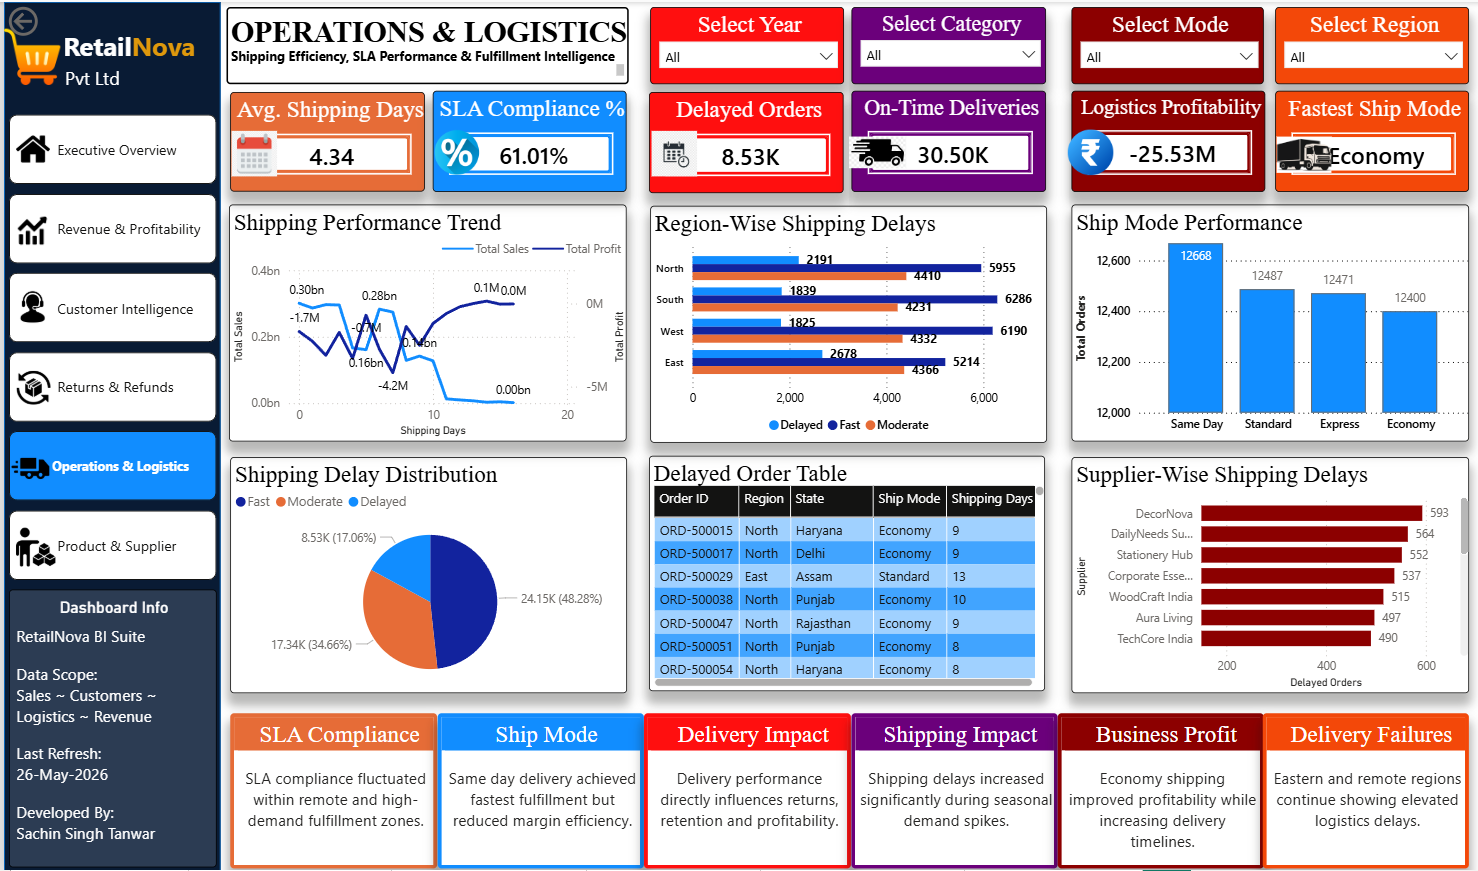

Layout of this report page (visuals, bound fields, positions):
{"tool":"powerbi","page":{"name":"Operations & Logistics","canvas":[1530,900],"ordinal":4},"visuals":[{"type":"cardVisual","title":"Avg. Shipping Days","fields":{"Data":["Avg(master_analytics_dataset.Shipping_Days)"]},"box":[234.7,93.4,202,103],"z":0},{"type":"group","id":"g1","title":"Group 2","box":[0,0,224.5,900.5],"z":1000},{"type":"textbox","title":"OPERATIONS & LOGISTICS","box":[230,5,417,79.6],"z":2000},{"type":"pageNavigator","box":[5.6,116.5,215.4,482.3],"z":2500,"group":"g2"},{"type":"textbox","title":"SLA Compliance","box":[234.9,736.4,214.8,160.5],"z":3000},{"type":"lineChart","title":"Shipping Performance Trend","fields":{"Y":["Sum(master_analytics_dataset.Sales)"],"Category":["master_analytics_dataset.Shipping_Days"],"Y2":["Sum(master_analytics_dataset.Profit)"]},"box":[233.3,210.2,412.2,245.9],"z":4000},{"type":"image","box":[11.9,134.5,36.6,35.4],"z":4500,"group":"g2"},{"type":"textbox","title":"Ship Mode","box":[449.7,736.4,213.4,160.5],"z":5000},{"type":"pieChart","title":"Shipping Delay Distribution","fields":{"Category":["master_analytics_dataset.Shipping Delay Categories"],"Y":["CountNonNull(master_analytics_dataset.Order_ID)"]},"box":[234.7,471.3,410.8,244.6],"z":6000},{"type":"image","box":[0,22,58.1,70],"z":6250,"group":"g2"},{"type":"shape","box":[0,0,224.5,900.5],"z":6500,"group":"g1"},{"type":"textbox","title":"Delivery Impact","box":[663.2,736.4,214.8,160.5],"z":7000},{"type":"clusteredColumnChart","title":"Ship Mode Performance","fields":{"Category":["master_analytics_dataset.Ship_Mode"],"Y":["CountNonNull(master_analytics_dataset.Order_ID)"]},"box":[1105.7,210.2,412.2,245.9],"z":8000},{"type":"textbox","title":"Retail","box":[58.1,22,166.4,60.9],"z":8500,"group":"g2"},{"type":"textbox","title":"Shipping Impact","box":[877.9,736.4,213.4,160.5],"z":9000},{"type":"tableEx","title":"Delayed Order Table","fields":{"Values":["master_analytics_dataset.Order_ID","master_analytics_dataset.Region","master_analytics_dataset.State","master_analytics_dataset.Ship_Mode","master_analytics_dataset.Shipping_Days"]},"box":[668.8,470.8,410.6,244.4],"z":10000},{"type":"textbox","box":[58.4,60.9,93.8,42.8],"z":10500,"group":"g2"},{"type":"textbox","title":" Business Profit","box":[1091.4,736.4,213.4,160.7],"z":11000},{"type":"slicer","title":"Select Year","fields":{"Values":["master_analytics_dataset.Order_Date.Variation.Date Hierarchy.Year"]},"box":[670.2,5.5,200.6,79.7],"z":12000},{"type":"image","box":[13.9,221.2,30,30],"z":12500,"group":"g2"},{"type":"image","box":[11.9,298.2,36,36.3],"z":13000,"group":"g2"},{"type":"textbox","title":"Delivery Failures","box":[1304.8,736.4,213.4,160.5],"z":13000},{"type":"clusteredBarChart","title":"Supplier-Wise Shipping Delays","fields":{"Category":["master_analytics_dataset.Supplier"],"Series":["master_analytics_dataset.Shipping Delay Categories"],"Y":["CountNonNull(master_analytics_dataset.Order_ID)"]},"box":[1105.7,471.3,412.2,244.6],"z":14000},{"type":"cardVisual","title":"SLA Compliance %","fields":{"Data":["master_analytics_dataset.SLA Compliance"]},"box":[444.9,92.1,200.6,104.4],"z":15000},{"type":"image","box":[12.9,382.2,35.8,35.2],"z":15000,"group":"g2"},{"type":"clusteredBarChart","title":"Region-Wise Shipping Delays","fields":{"Category":["master_analytics_dataset.Region"],"Series":["master_analytics_dataset.Shipping Delay Categories"],"Y":["CountNonNull(master_analytics_dataset.Shipping_Days)"]},"box":[669.7,210.7,411.5,245.6],"z":16000},{"type":"slicer","title":"Select Category","fields":{"Values":["master_analytics_dataset.Category"]},"box":[877.7,5.5,202,79.7],"z":17000},{"type":"image","box":[8.3,464,38.9,38.9],"z":17000,"group":"g2"},{"type":"cardVisual","title":"Delayed Orders","fields":{"Data":["master_analytics_dataset.Delayed Orders"]},"box":[668.8,93.4,202,104.4],"z":18000},{"type":"slicer","title":"Select Mode","fields":{"Values":["master_analytics_dataset.Ship_Mode"]},"box":[1105.7,5.5,199.2,79.7],"z":19000},{"type":"image","box":[11.9,544.4,42.3,41.5],"z":19000,"group":"g2"},{"type":"slicer","title":"Select Region","fields":{"Values":["master_analytics_dataset.Region"]},"box":[1317.3,5.5,200.6,79.7],"z":20000},{"type":"textbox","title":"Dashboard Info","box":[5.6,608.5,215.4,287.7],"z":20000,"group":"g2"},{"type":"cardVisual","title":"On-Time Deliveries","fields":{"Data":["master_analytics_dataset.On-Time Deliveries"]},"box":[877.7,92.1,202,104.4],"z":21000},{"type":"group","id":"g2","title":"Group 1","box":[0,22,224.5,874.2],"z":21001,"group":"g1"},{"type":"cardVisual","title":"Logistics Profitability","fields":{"Data":["Sum(master_analytics_dataset.Profit)"]},"box":[1105.7,92.1,200.6,104.4],"z":22000},{"type":"cardVisual","title":"Fastest Ship Mode","fields":{"Data":["Min(master_analytics_dataset.Ship_Mode)"]},"box":[1317.3,92.1,200.6,104.4],"z":23000},{"type":"image","box":[434.6,128.2,63.4,55.3],"z":24000},{"type":"image","box":[660,129.6,63.4,55.3],"z":25000},{"type":"image","box":[871.9,128.2,63.4,55.3],"z":26000},{"type":"image","box":[1091.9,128.2,63.4,55.3],"z":27000},{"type":"image","box":[1314.6,117.4,60.7,81],"z":28000},{"type":"image","box":[225,130,63.8,55],"z":29000},{"type":"actionButton","box":[0,0,100,40],"z":30000}]}

Visuals, with their boxes in screenshot pixels (x1, y1, x2, y2), scaled from the page's 1530x900 canvas onto the 1478x871 screenshot:
"Avg. Shipping Days" cardVisual: crop(227, 90, 422, 190)
"Group 2" group: crop(0, 0, 217, 870)
"OPERATIONS & LOGISTICS" textbox: crop(222, 5, 625, 82)
pageNavigator: crop(5, 113, 213, 580)
"SLA Compliance" textbox: crop(227, 713, 434, 868)
"Shipping Performance Trend" lineChart: crop(225, 203, 624, 441)
image: crop(11, 130, 47, 164)
"Ship Mode" textbox: crop(434, 713, 641, 868)
"Shipping Delay Distribution" pieChart: crop(227, 456, 624, 693)
image: crop(0, 21, 56, 89)
shape: crop(0, 0, 217, 870)
"Delivery Impact" textbox: crop(641, 713, 848, 868)
"Ship Mode Performance" clusteredColumnChart: crop(1068, 203, 1466, 441)
"Retail" textbox: crop(56, 21, 217, 80)
"Shipping Impact" textbox: crop(848, 713, 1054, 868)
"Delayed Order Table" tableEx: crop(646, 456, 1043, 692)
textbox: crop(56, 59, 147, 100)
" Business Profit" textbox: crop(1054, 713, 1260, 868)
"Select Year" slicer: crop(647, 5, 841, 82)
image: crop(13, 214, 42, 243)
image: crop(11, 289, 46, 324)
"Delivery Failures" textbox: crop(1260, 713, 1467, 868)
"Supplier-Wise Shipping Delays" clusteredBarChart: crop(1068, 456, 1466, 693)
"SLA Compliance %" cardVisual: crop(430, 89, 624, 190)
image: crop(12, 370, 47, 404)
"Region-Wise Shipping Delays" clusteredBarChart: crop(647, 204, 1044, 442)
"Select Category" slicer: crop(848, 5, 1043, 82)
image: crop(8, 449, 46, 487)
"Delayed Orders" cardVisual: crop(646, 90, 841, 191)
"Select Mode" slicer: crop(1068, 5, 1261, 82)
image: crop(11, 527, 52, 567)
"Select Region" slicer: crop(1273, 5, 1466, 82)
"Dashboard Info" textbox: crop(5, 589, 213, 867)
"On-Time Deliveries" cardVisual: crop(848, 89, 1043, 190)
"Group 1" group: crop(0, 21, 217, 867)
"Logistics Profitability" cardVisual: crop(1068, 89, 1262, 190)
"Fastest Ship Mode" cardVisual: crop(1273, 89, 1466, 190)
image: crop(420, 124, 481, 178)
image: crop(638, 125, 699, 179)
image: crop(842, 124, 904, 178)
image: crop(1055, 124, 1116, 178)
image: crop(1270, 114, 1329, 192)
image: crop(217, 126, 279, 179)
actionButton: crop(0, 0, 97, 39)
